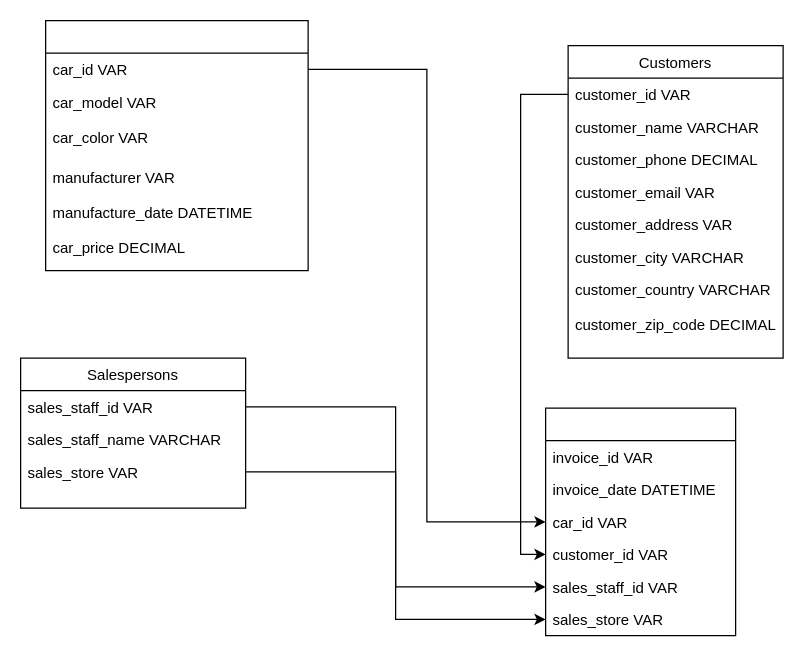
This 804x656 diagram has some shape labels left out. Here are the shapes that lost their labels. From the top down, the box of each, then its label:
(44, 19, 308, 271): Cars
(544, 407, 736, 636): Invoices
